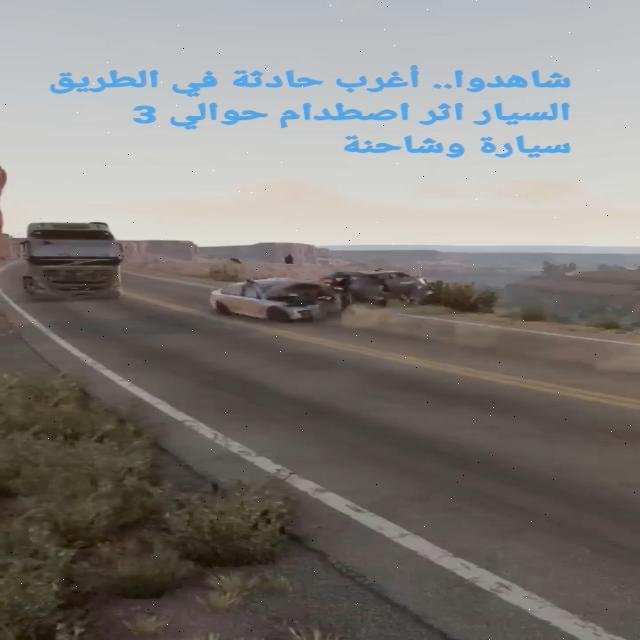accident: (196, 265, 462, 327)
